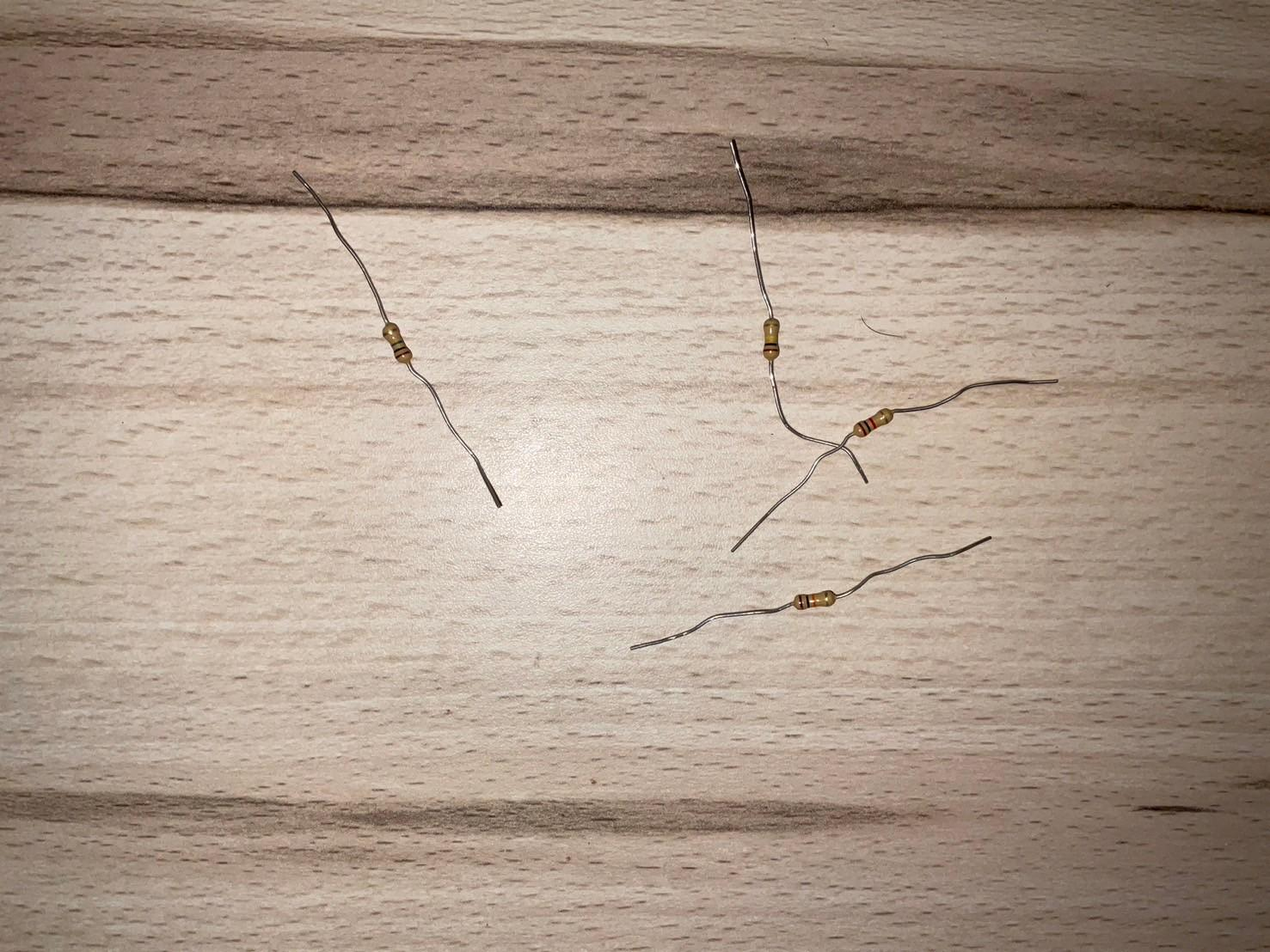resistor: (380, 323, 412, 365), (853, 408, 894, 436), (761, 318, 782, 363), (795, 589, 836, 609)
